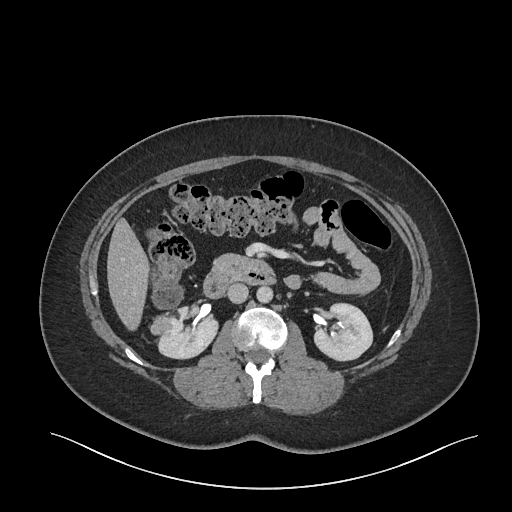Lesion: (146, 311, 178, 339)
